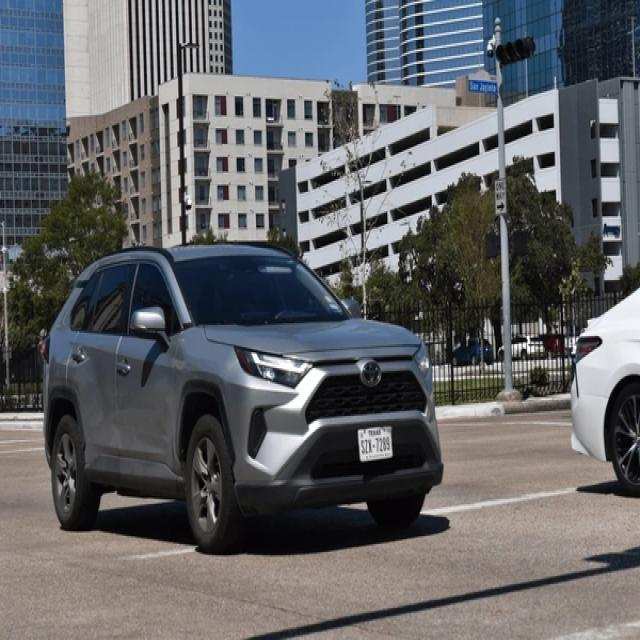toyota: (357, 362, 385, 386)
